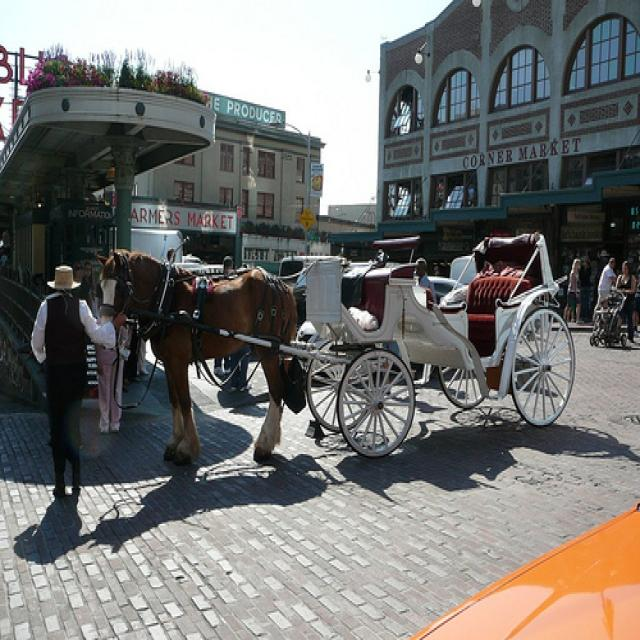Vehicle: (418, 489, 640, 631), (130, 229, 203, 263), (428, 276, 458, 305)
